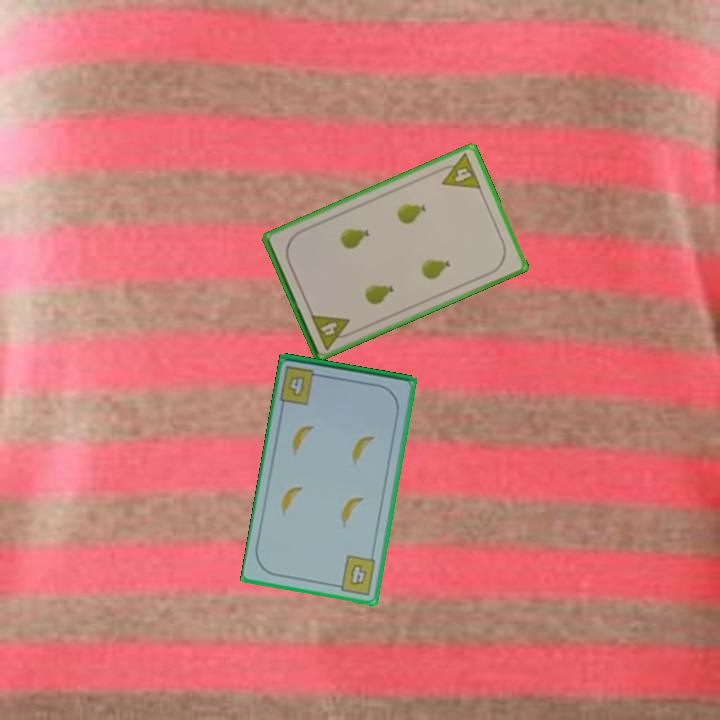4b: (277, 362, 326, 408), (331, 552, 379, 598)
4p: (433, 150, 484, 192), (307, 310, 357, 352)
